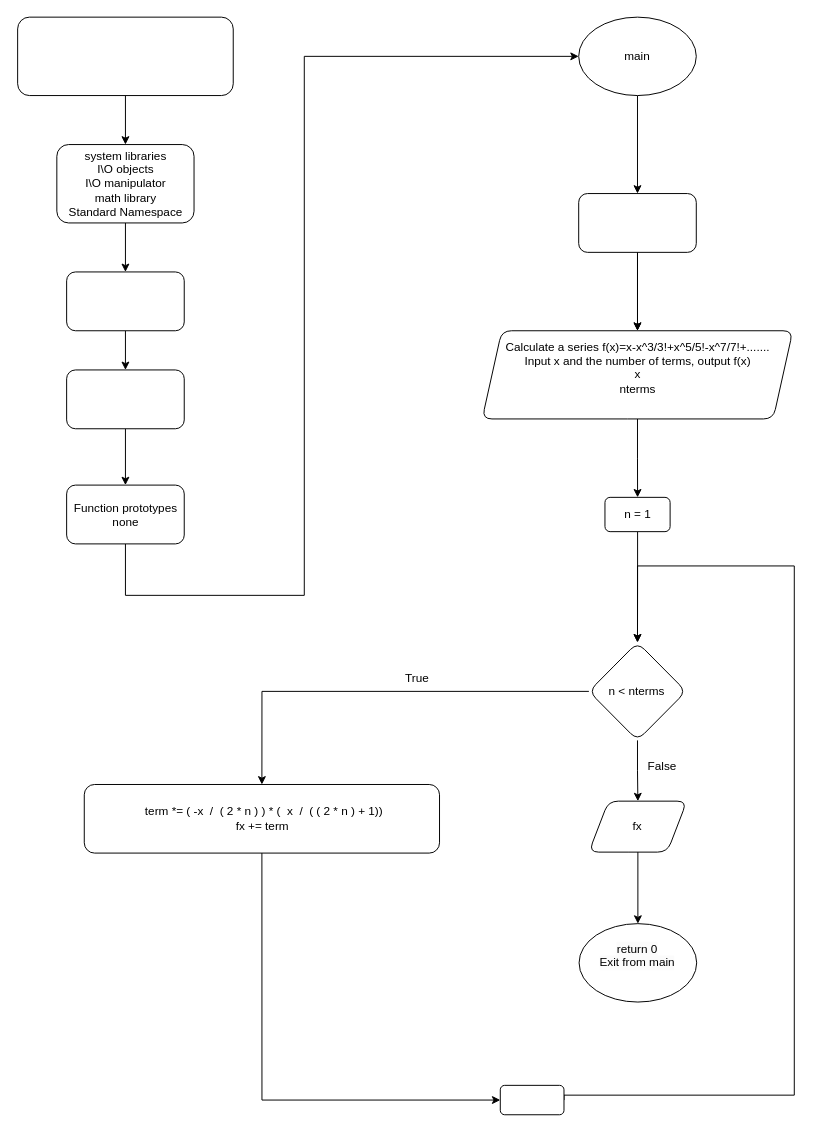
Image size: 819x1132. Some labels were removed from this diagram. Each missing label, with the centre of its shape:
"Author : Ireoluwa Dairo Created on January 15 4:18 pm Purpose : Infinite Series" belongs at (x=125, y=56).
"Declare Variables x, fx = x , nterms, term = x." belongs at (x=637, y=222).
"Global constants none" belongs at (x=125, y=399).
"n++" belongs at (x=531, y=1099).
"user libraries none" belongs at (x=125, y=301).
